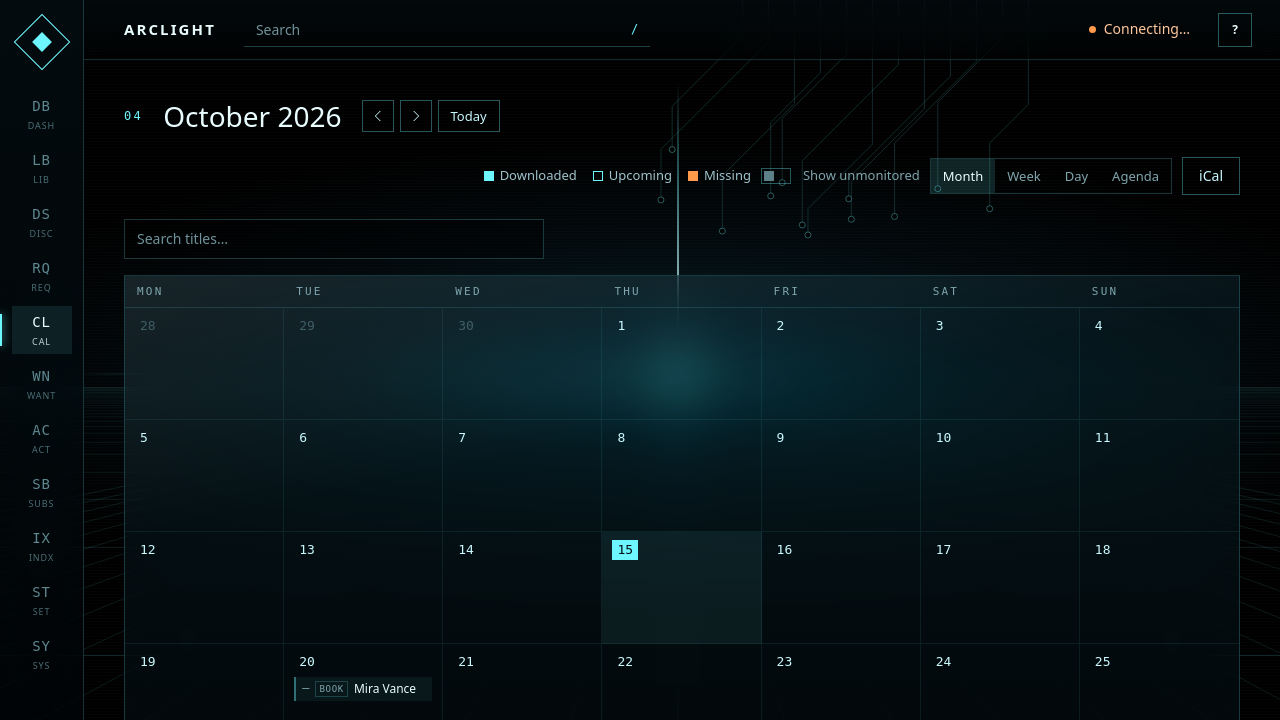
Test: calendar and dashboard books › renders book release dates with an audiobook chip in the grid, popover and agenda
Click the button with aria-label "Audiobook: Mira Vance, The Salt Road" at (363, 689), box [294,677,432,701]
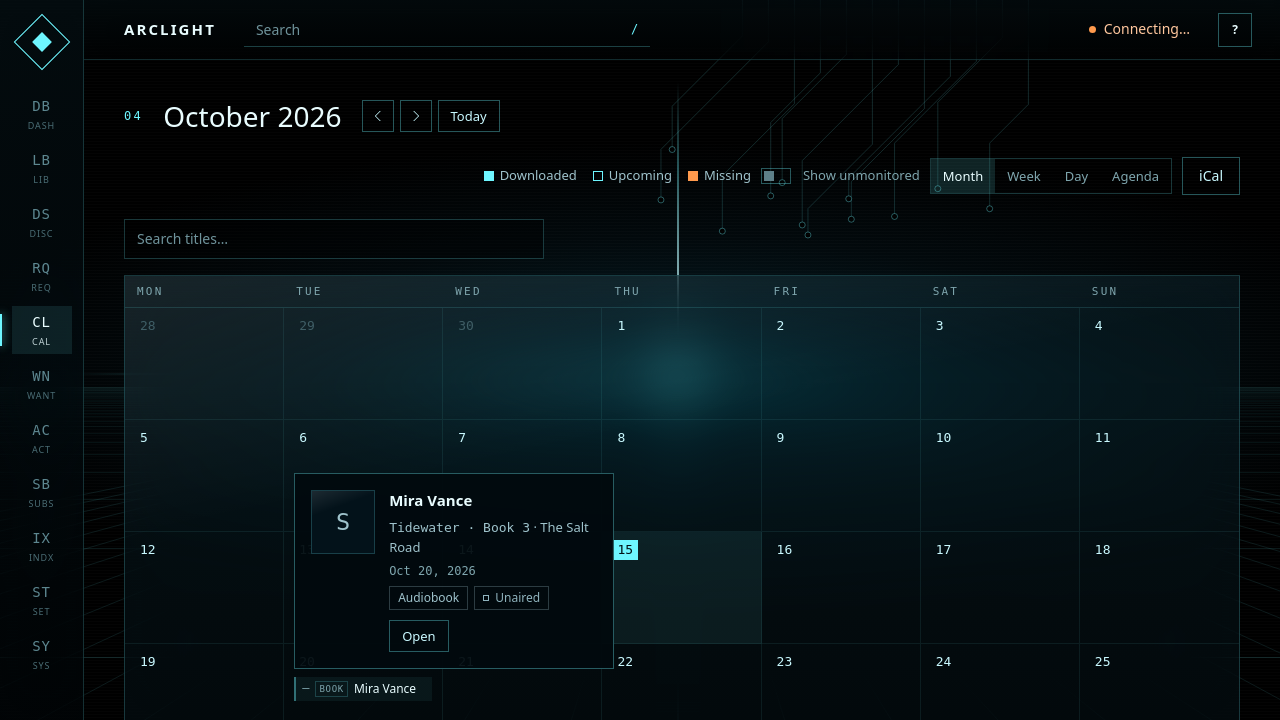
Now the text "Audiobook" is shown, box [389,586,468,610]
Press Escape in the dialog, box [294,473,614,669]
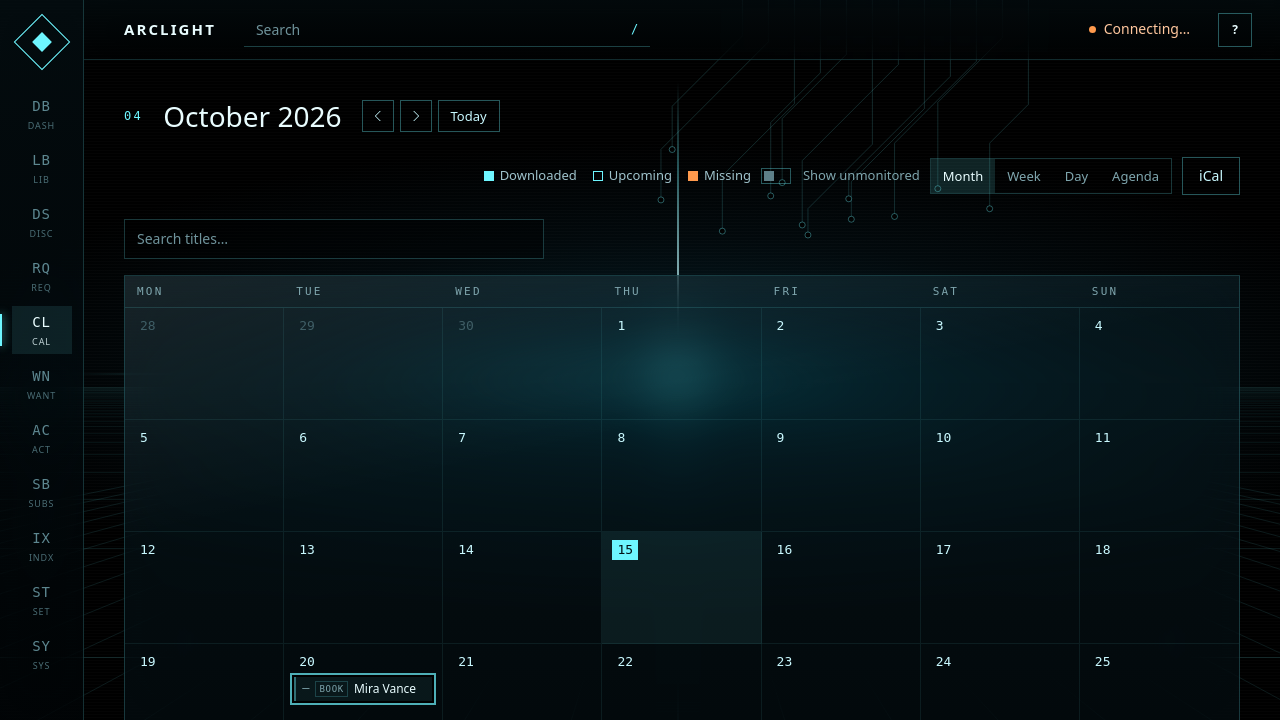
Click the button "Agenda" at (1136, 176), box [1100,159,1171,193]
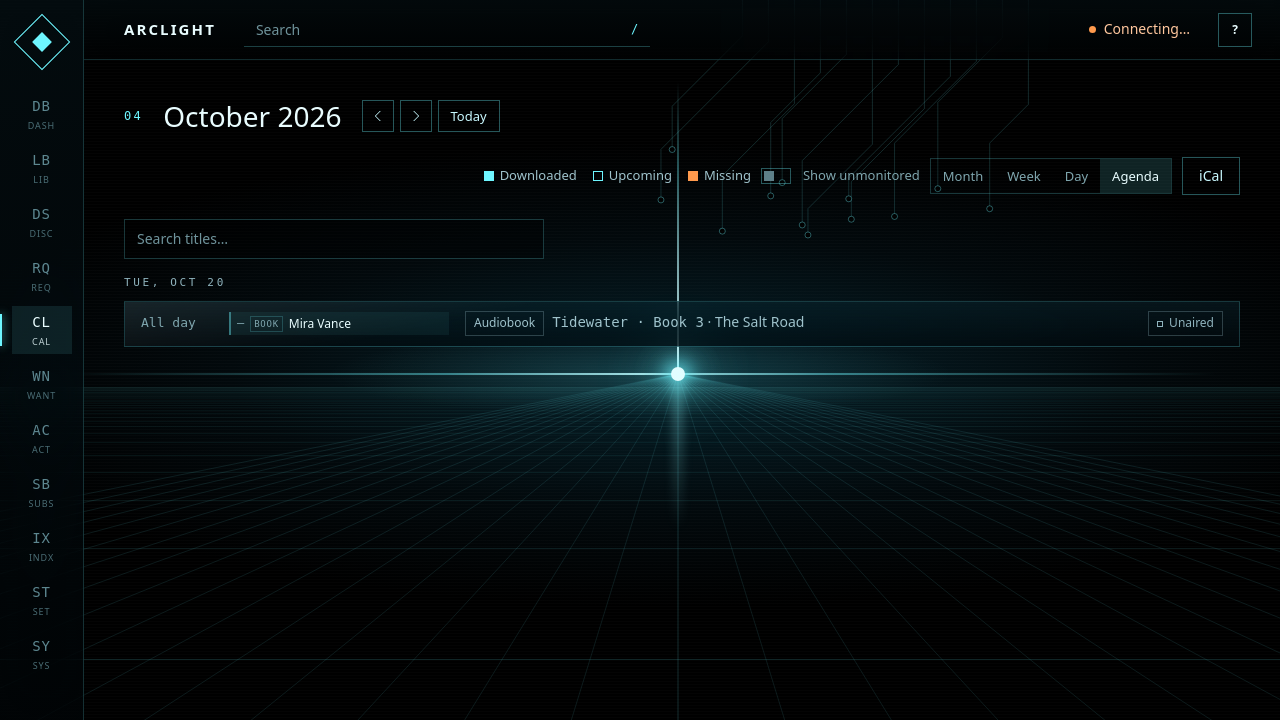
Now the text "Audiobook" is shown, box [465,311,544,336]
